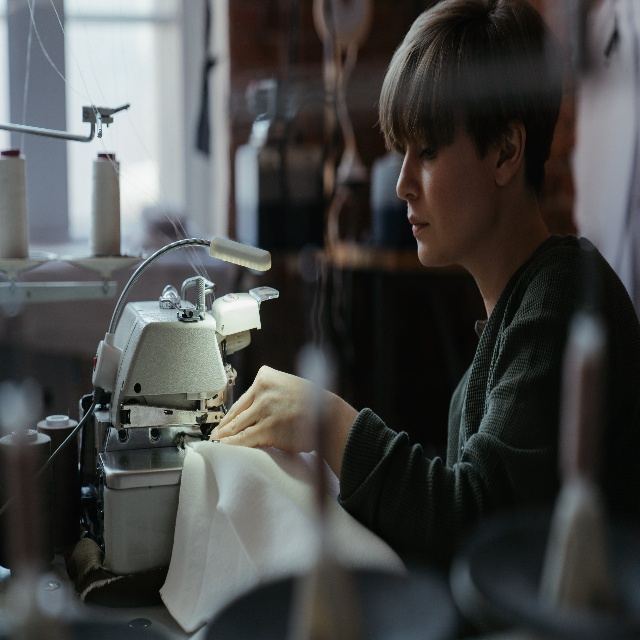Sin_guantes: (201, 365, 325, 454)
